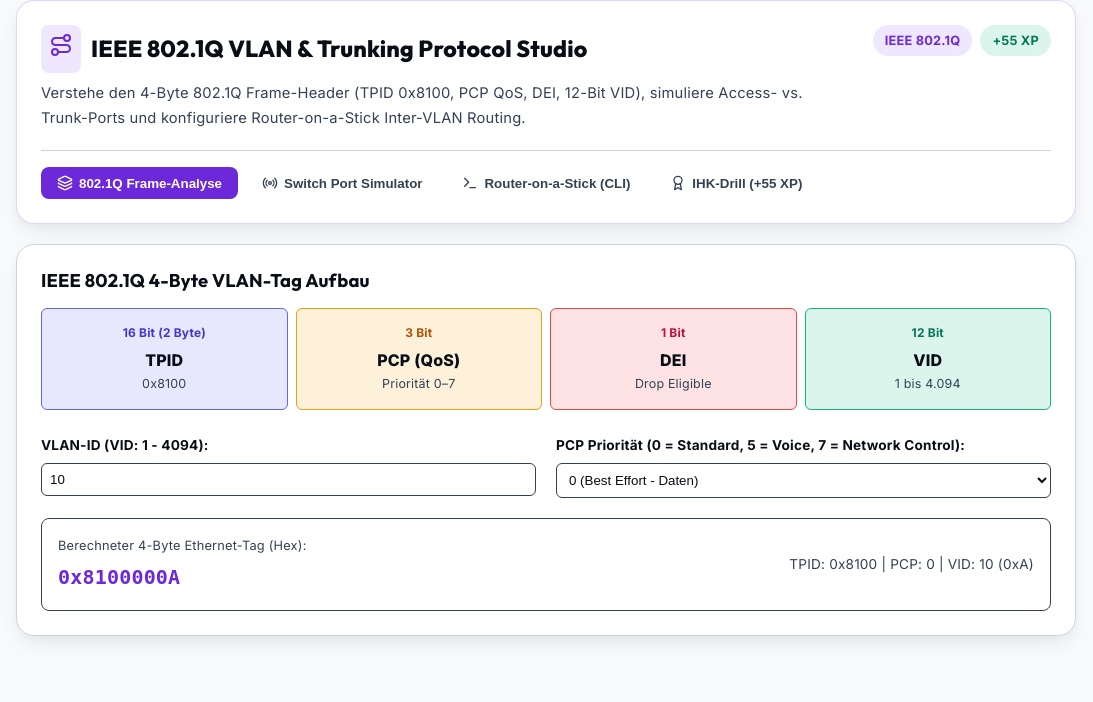
Test: VlanTrunkingLab › führt eine Switch-Port Weiterleitungssimulation aus
Click the button "Switch Port Simulator" at (342, 183), box x1=246 y1=167 x2=438 y2=199
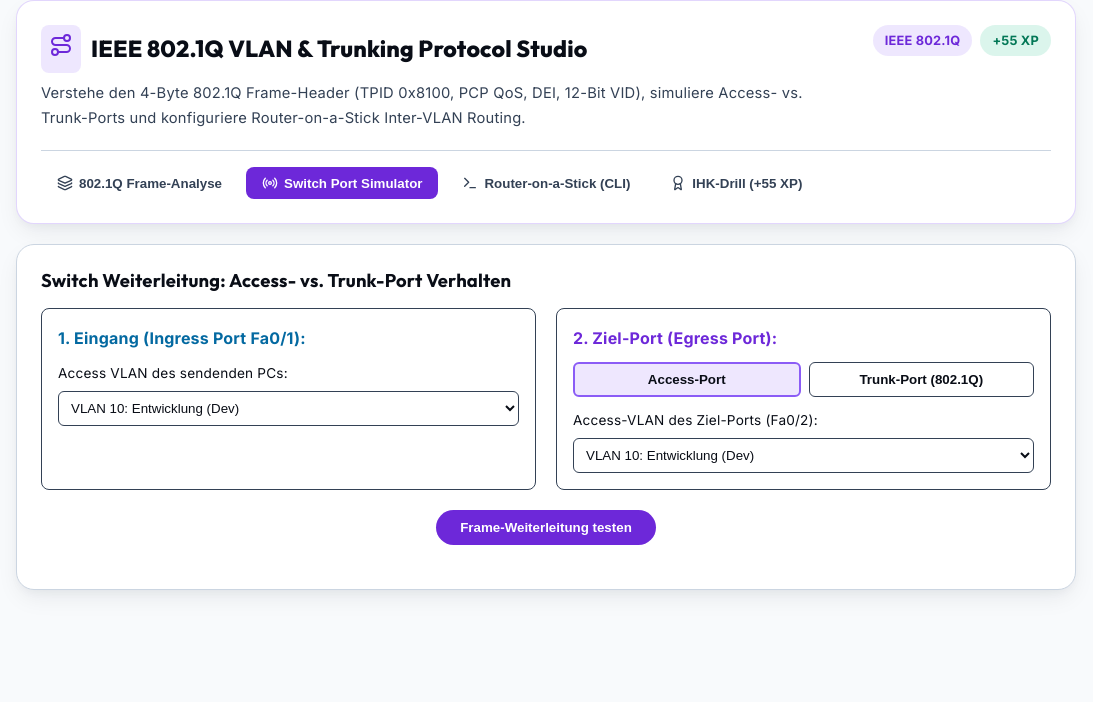
Click the button "Frame-Weiterleitung testen" at (546, 528), box x1=436 y1=510 x2=656 y2=545
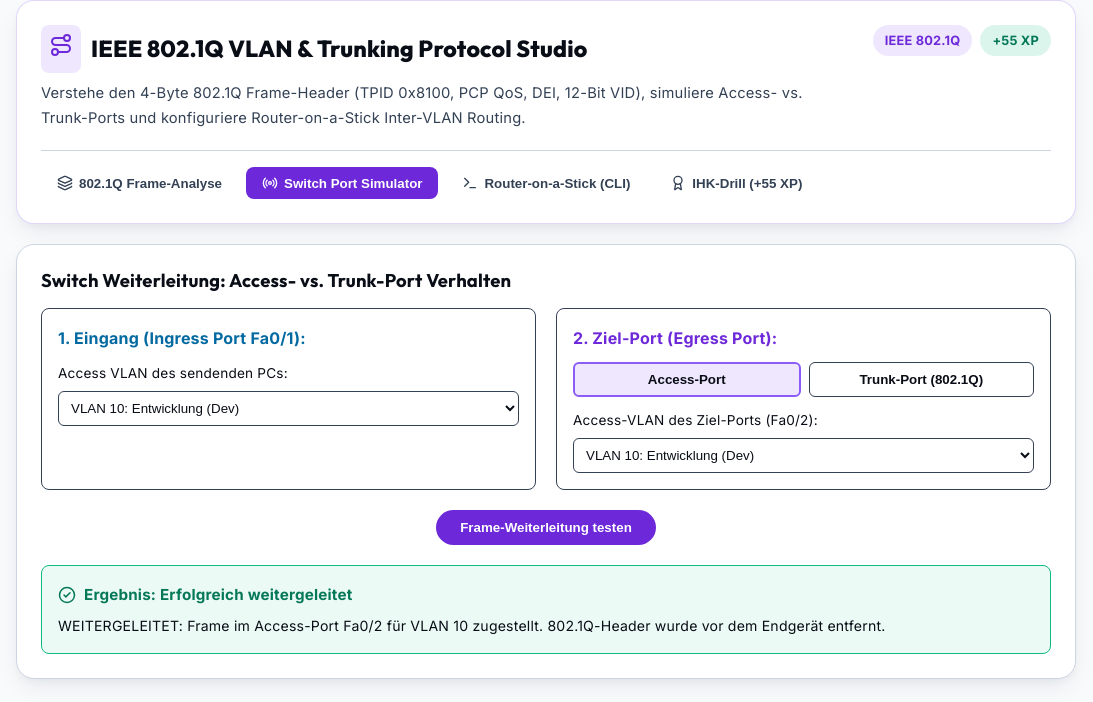
expect the text "Ergebnis: Erfolgreich weitergeleitet" is shown: met, box x1=58 y1=585 x2=352 y2=604
